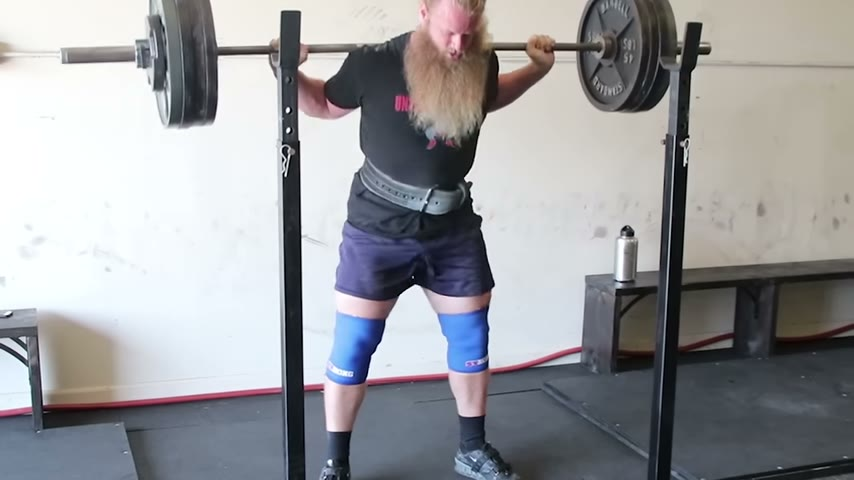barbell_plate_side: (595, 0, 708, 133), (219, 0, 284, 129)
